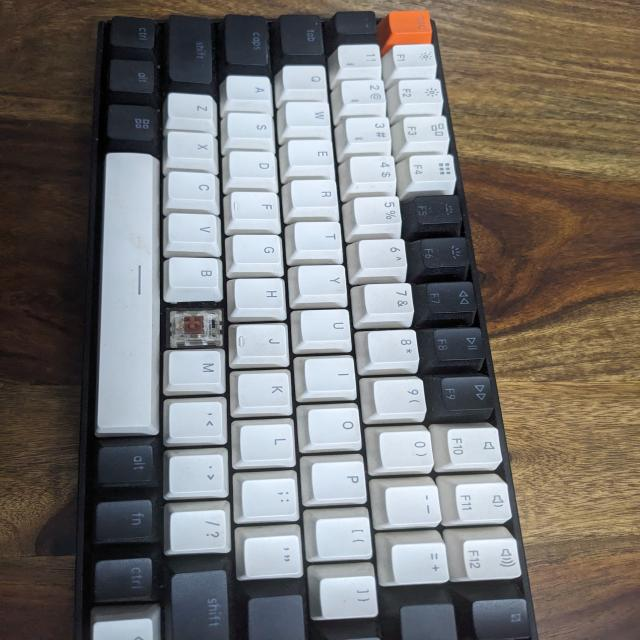C: (166, 308, 224, 348)
